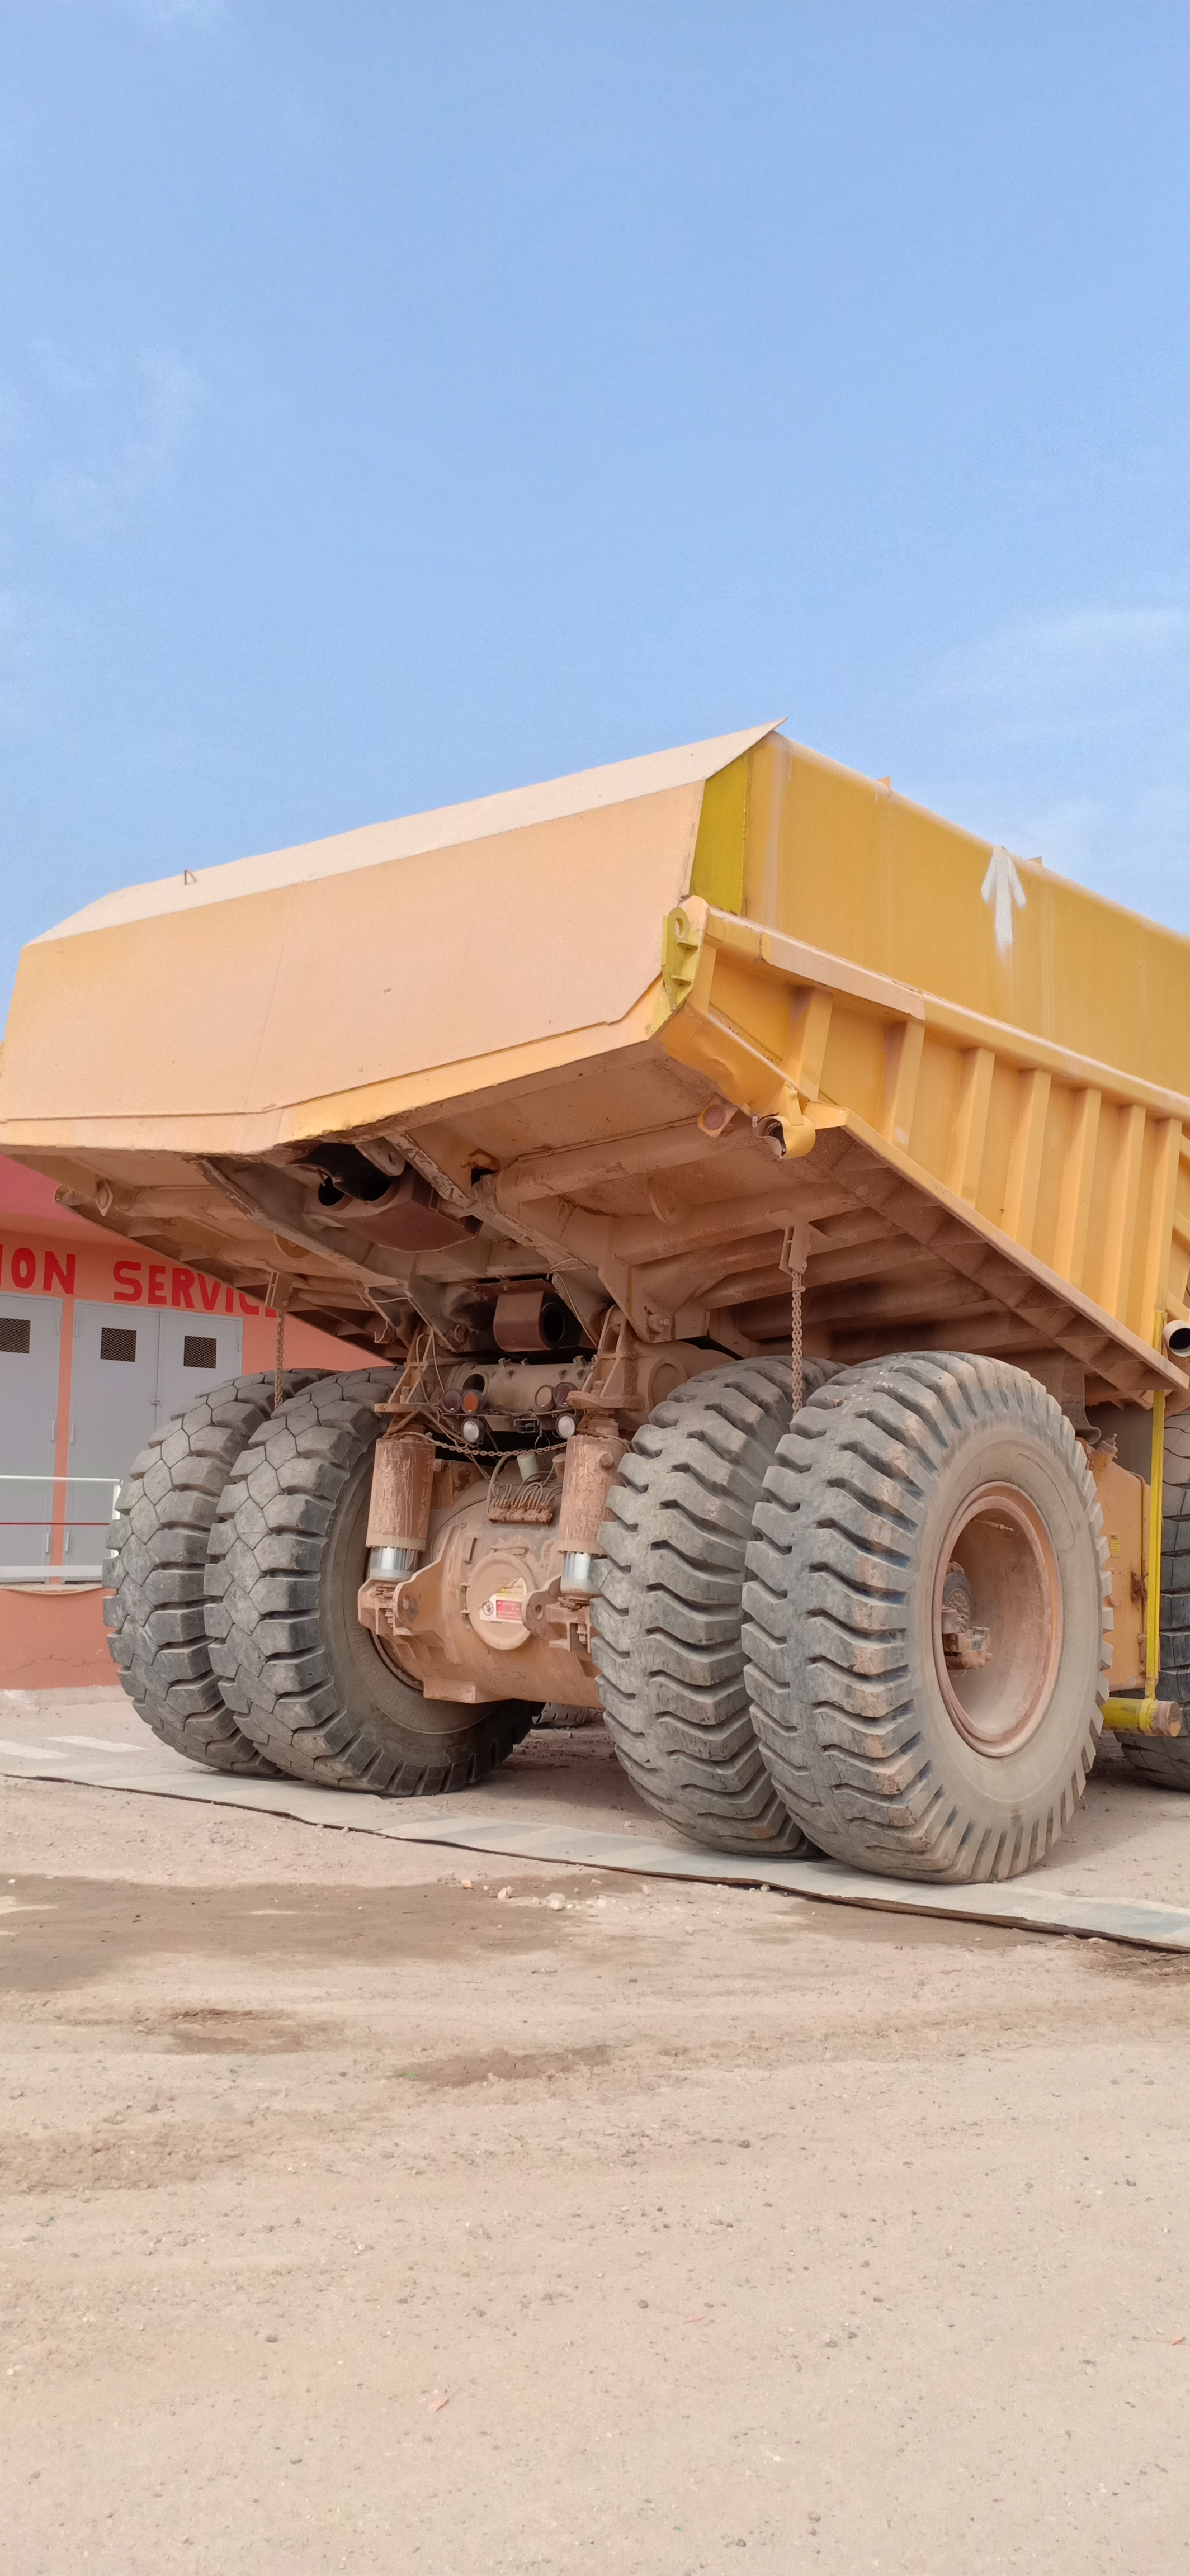camion: (41, 715, 1190, 1901)
